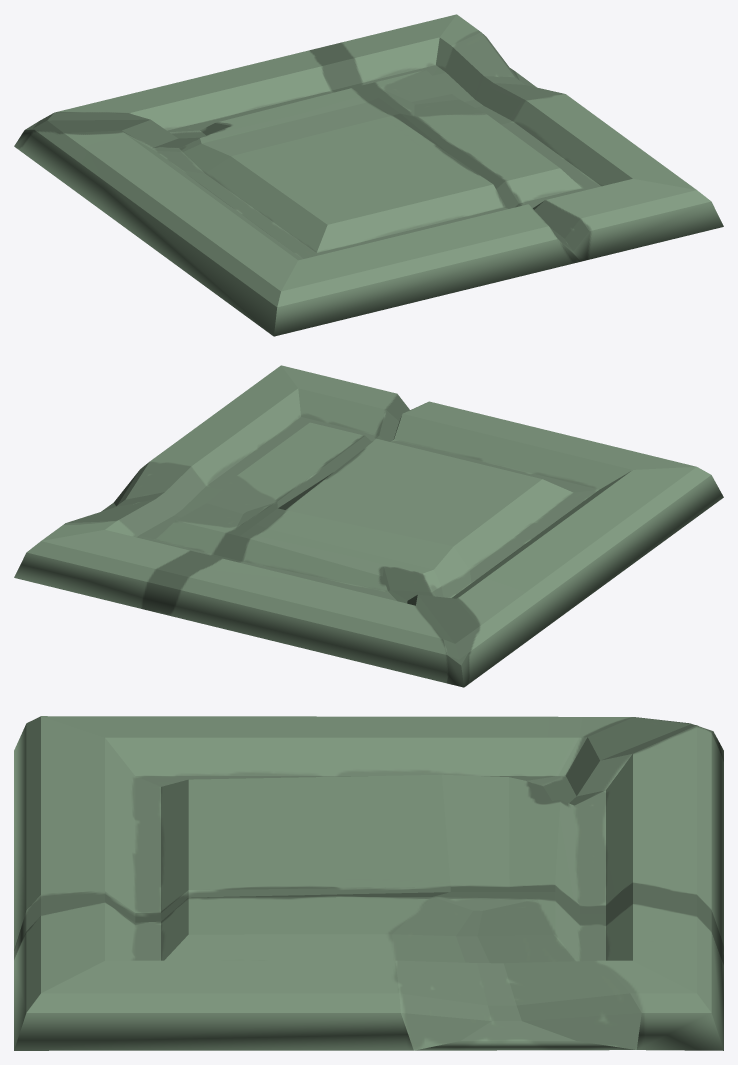
The model's file is floortilewithbottom.fbx.
3 renders of one model, top to bottom at view 1: azimuth 30°, elevation 25°; view 2: azimuth 150°, elevation 25°; view 3: azimuth 270°, elevation 25°, orthographic. The views are drawn at different scales.
Parts seen in each view (by area): view 1: floor_tle_Cube.349; view 2: floor_tle_Cube.349; view 3: floor_tle_Cube.349.
Part boxes in pixels (left/top/right/bottom): floor_tle_Cube.349: left=14, top=14, right=723, bottom=336; floor_tle_Cube.349: left=14, top=365, right=723, bottom=687; floor_tle_Cube.349: left=14, top=716, right=723, bottom=1050.
Size of the model in its own units: 200 by 16.26 by 200.
